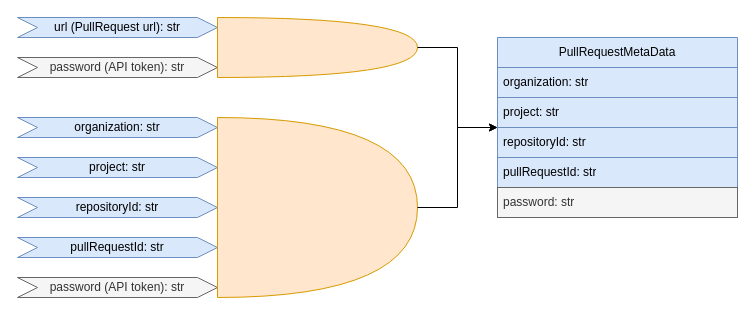
The diagram is 755 pixels wide and 315 high, and some of its shapes have lost their labels. Each missing label, with the box of its shape:
PullRequestMetaData() (__init__): (216, 116, 418, 298)
PullRequestMetaData.from_url(): (216, 16, 418, 78)
